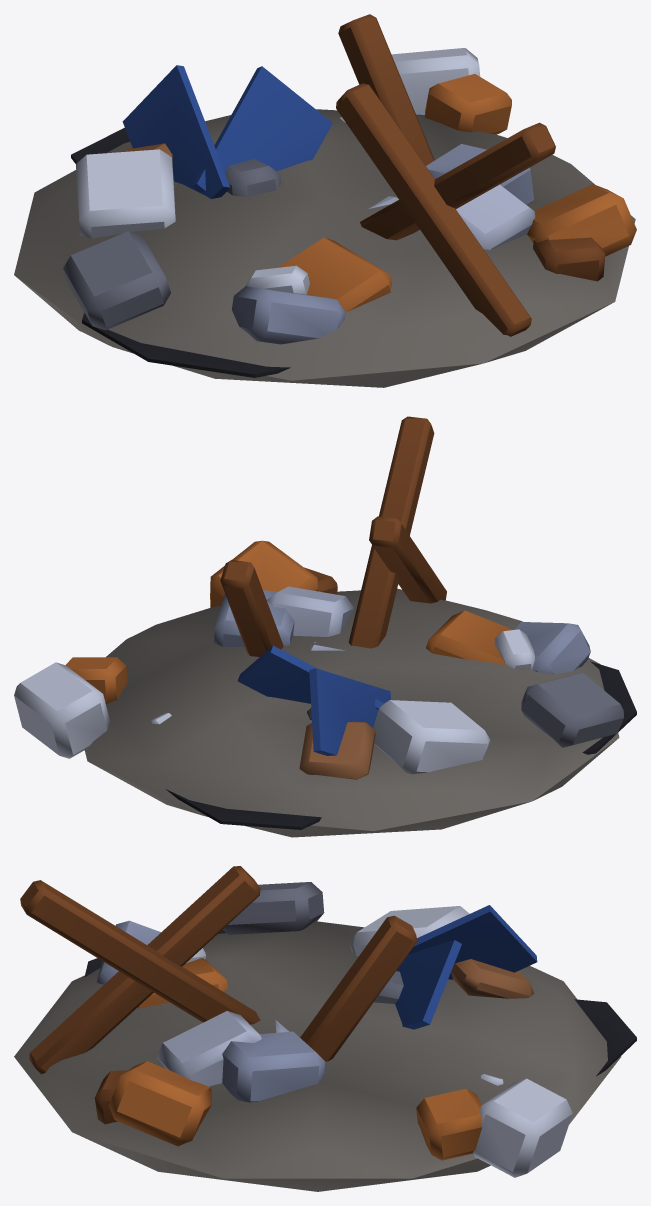
Rendered from b_rubble_2.glb.
The picture shows the model from 3 angles, top to bottom: view 1: azimuth 30°, elevation 25°; view 2: azimuth 150°, elevation 25°; view 3: azimuth 270°, elevation 25°; orthographic projection. The views are drawn at different scales.
Parts seen in each view (by area): view 1: body; view 2: body; view 3: body.
Part boxes in pixels (x1,y1,x2,y2): body: [14, 14, 636, 387]; body: [14, 416, 636, 837]; body: [14, 866, 636, 1191].
Size of the model in its own units: 3.26 by 1.52 by 3.41.
